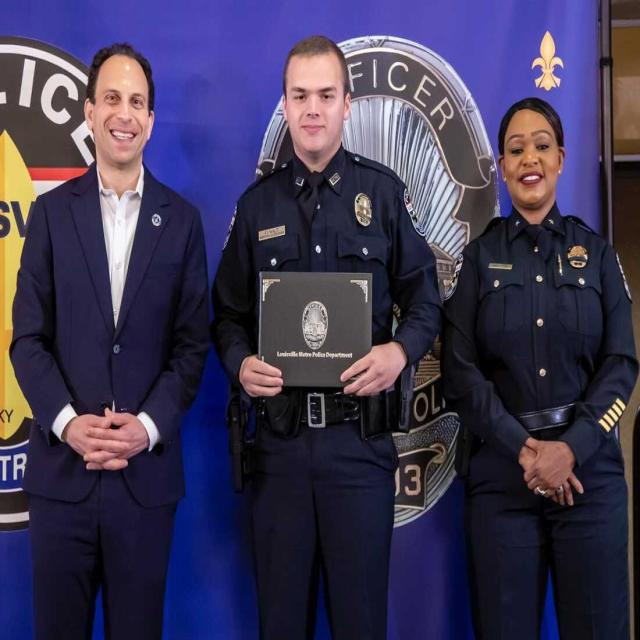police: (212, 0, 424, 640), (446, 73, 640, 634)
